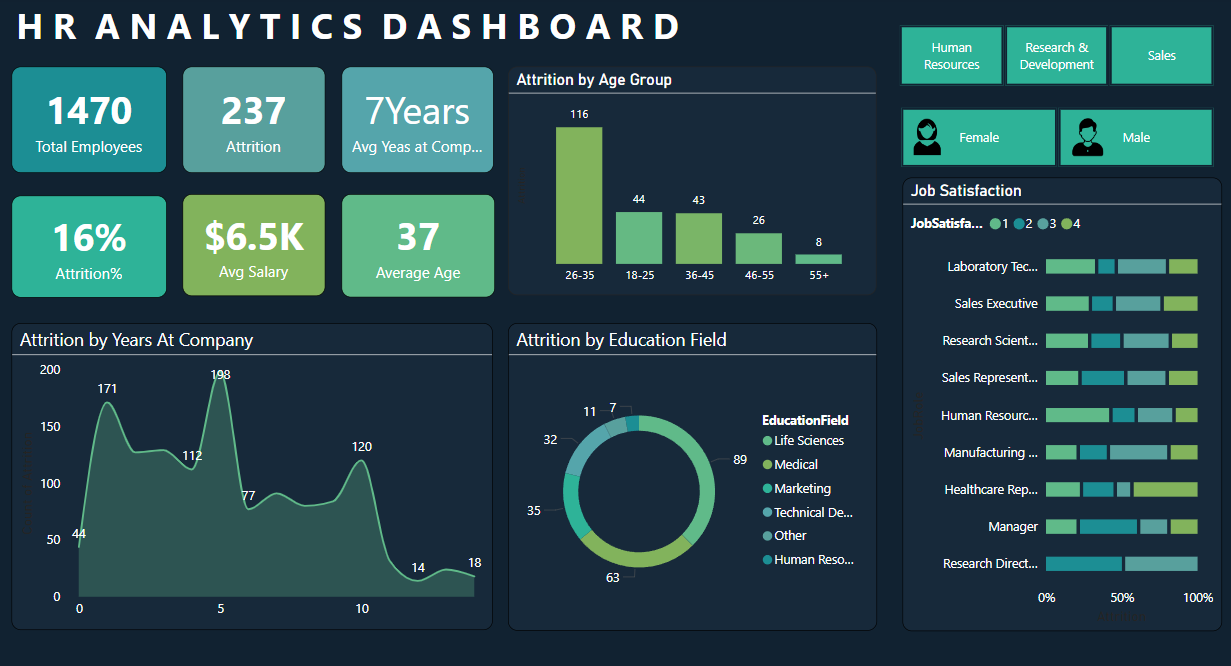

The page's visual inventory and layout, read from the dashboard file:
{"tool":"powerbi","page":{"name":"Page 1","canvas":[1317,720],"ordinal":0},"visuals":[{"type":"card","title":"Total Employees","fields":{"Values":["Measures (2).employee_count"]},"box":[15,75,165,113.3],"z":0},{"type":"areaChart","title":"Attrition by Years At Company","fields":{"Y":["CountNonNull(HR_Analytics.Attrition)"],"Category":["HR_Analytics.YearsAtCompany"]},"box":[15,348.3,511.7,326.7],"z":1000},{"type":"card","fields":{"Values":["Measures (2).Avg_Years_at_Company"]},"box":[365,75,161.7,113.3],"z":2000},{"type":"card","fields":{"Values":["Measures (2).Attrition%"]},"box":[15,211.7,165,108.3],"z":3000},{"type":"card","fields":{"Values":["Measures (2).AvgSalary"]},"box":[196.7,210,151.7,108.3],"z":4000},{"type":"card","fields":{"Values":["Measures (2).AverageAge"]},"box":[365,210,163.3,110],"z":5000},{"type":"donutChart","title":"Attrition by Education Field","fields":{"Y":["Measures (2).Attrition"],"Category":["HR_Analytics.EducationField"]},"box":[542.5,347.5,392.5,327.5],"z":6000},{"type":"columnChart","title":"Attrition by Age Group","fields":{"Category":["HR_Analytics.AgeGroup"],"Y":["Measures (2).employee_attrition"]},"box":[543.3,75,391.7,243.3],"z":7000},{"type":"hundredPercentStackedBarChart","title":"Job Satisfaction","fields":{"Y":["Measures (2).employee_attrition"],"Series":["HR_Analytics.JobSatisfaction"],"Category":["HR_Analytics.JobRole"]},"box":[963.3,193.3,340,481.7],"z":8000},{"type":"card","fields":{"Values":["Measures (2).employee_attrition"]},"box":[196.7,75,151.7,113.3],"z":9000},{"type":"advancedSlicerVisual","fields":{"Values":["HR_Analytics.Gender"]},"box":[965,75,340,103.3],"z":10000},{"type":"advancedSlicerVisual","fields":{"Values":["HR_Analytics.Department"]},"box":[611.7,5,705,56.7],"z":11000},{"type":"textbox","box":[15,10,546.7,51.7],"z":12000},{"type":"actionButton","box":[1260,676.7,56.7,40],"z":13000}]}

Visuals, with their boxes in screenshot pixels (x1, y1, x2, y2), scaled from the page's 1317x720 canvas onto the 1231x666 screenshot:
"Total Employees" card: bbox=(14, 69, 168, 174)
"Attrition by Years At Company" areaChart: bbox=(14, 322, 492, 624)
card - Measures (2).Avg_Years_at_Company: bbox=(341, 69, 492, 174)
card - Measures (2).Attrition%: bbox=(14, 196, 168, 296)
card - Measures (2).AvgSalary: bbox=(184, 194, 326, 294)
card - Measures (2).AverageAge: bbox=(341, 194, 494, 296)
"Attrition by Education Field" donutChart: bbox=(507, 321, 874, 624)
"Attrition by Age Group" columnChart: bbox=(508, 69, 874, 294)
"Job Satisfaction" hundredPercentStackedBarChart: bbox=(900, 179, 1218, 624)
card - Measures (2).employee_attrition: bbox=(184, 69, 326, 174)
advancedSlicerVisual - HR_Analytics.Gender: bbox=(902, 69, 1220, 165)
advancedSlicerVisual - HR_Analytics.Department: bbox=(572, 5, 1230, 57)
textbox: bbox=(14, 9, 525, 57)
actionButton: bbox=(1178, 626, 1230, 663)
